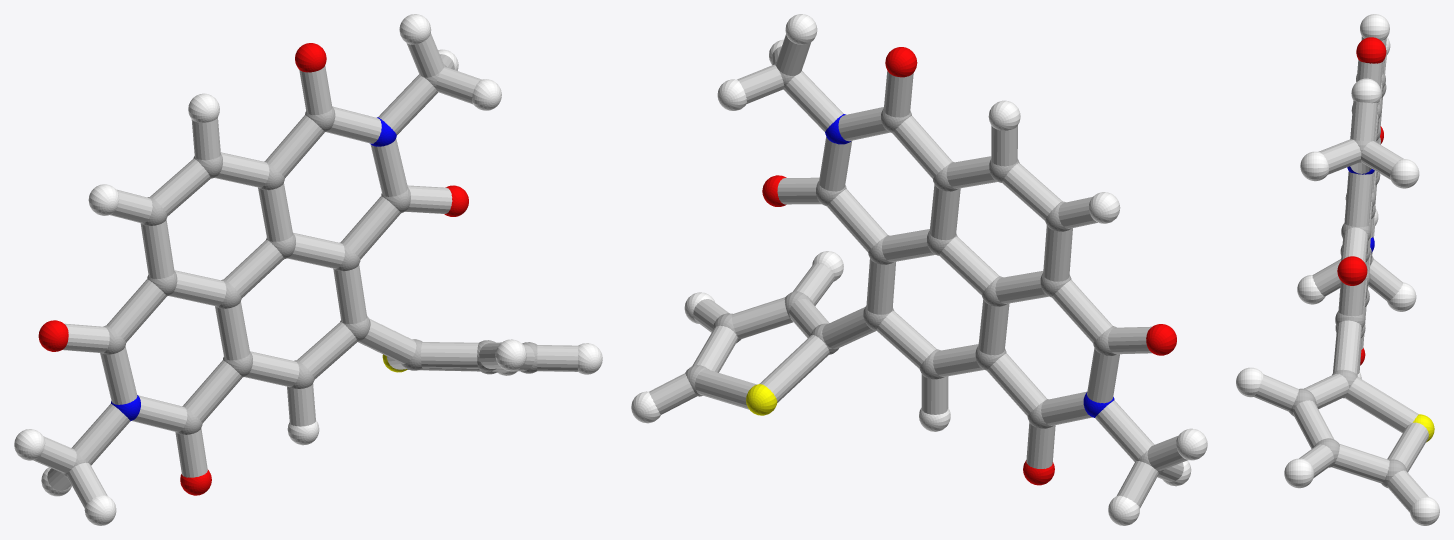
Rendered from Dimethyl_Naphthalene_Dicarboximide_Phi_20_Theta_70_Thiophene.glb.
3 renders of one model, left to right at view 1: azimuth 30°, elevation 25°; view 2: azimuth 150°, elevation 25°; view 3: azimuth 270°, elevation 25°, orthographic. The views are drawn at different scales.
Visible parts, largest first — view 1: grp14119, grp7241, grp1, grp12309, grp11585; view 2: grp14119, grp7241, grp1, grp12309, grp13757, grp11585; view 3: grp14119, grp7241, grp1, grp12309, grp13757.
Part boxes in pixels (x1=…): grp14119: x1=33, y1=33, x2=578, y2=508; grp7241: x1=14, y1=14, x2=602, y2=525; grp1: x1=62, y1=64, x2=537, y2=477; grp12309: x1=38, y1=43, x2=468, y2=495; grp11585: x1=111, y1=117, x2=396, y2=421; grp14119: x1=649, y1=34, x2=1187, y2=507; grp7241: x1=631, y1=14, x2=1207, y2=525; grp1: x1=685, y1=62, x2=1163, y2=473; grp12309: x1=762, y1=47, x2=1176, y2=485; grp13757: x1=746, y1=384, x2=777, y2=415; grp11585: x1=825, y1=114, x2=1114, y2=417; grp14119: x1=1254, y1=36, x2=1428, y2=512; grp7241: x1=1236, y1=14, x2=1439, y2=525; grp1: x1=1289, y1=73, x2=1407, y2=487; grp12309: x1=1337, y1=37, x2=1386, y2=365; grp13757: x1=1413, y1=414, x2=1434, y2=442.
Bounding box in the file's own units: 11.99 × 8.68 × 4.08.
